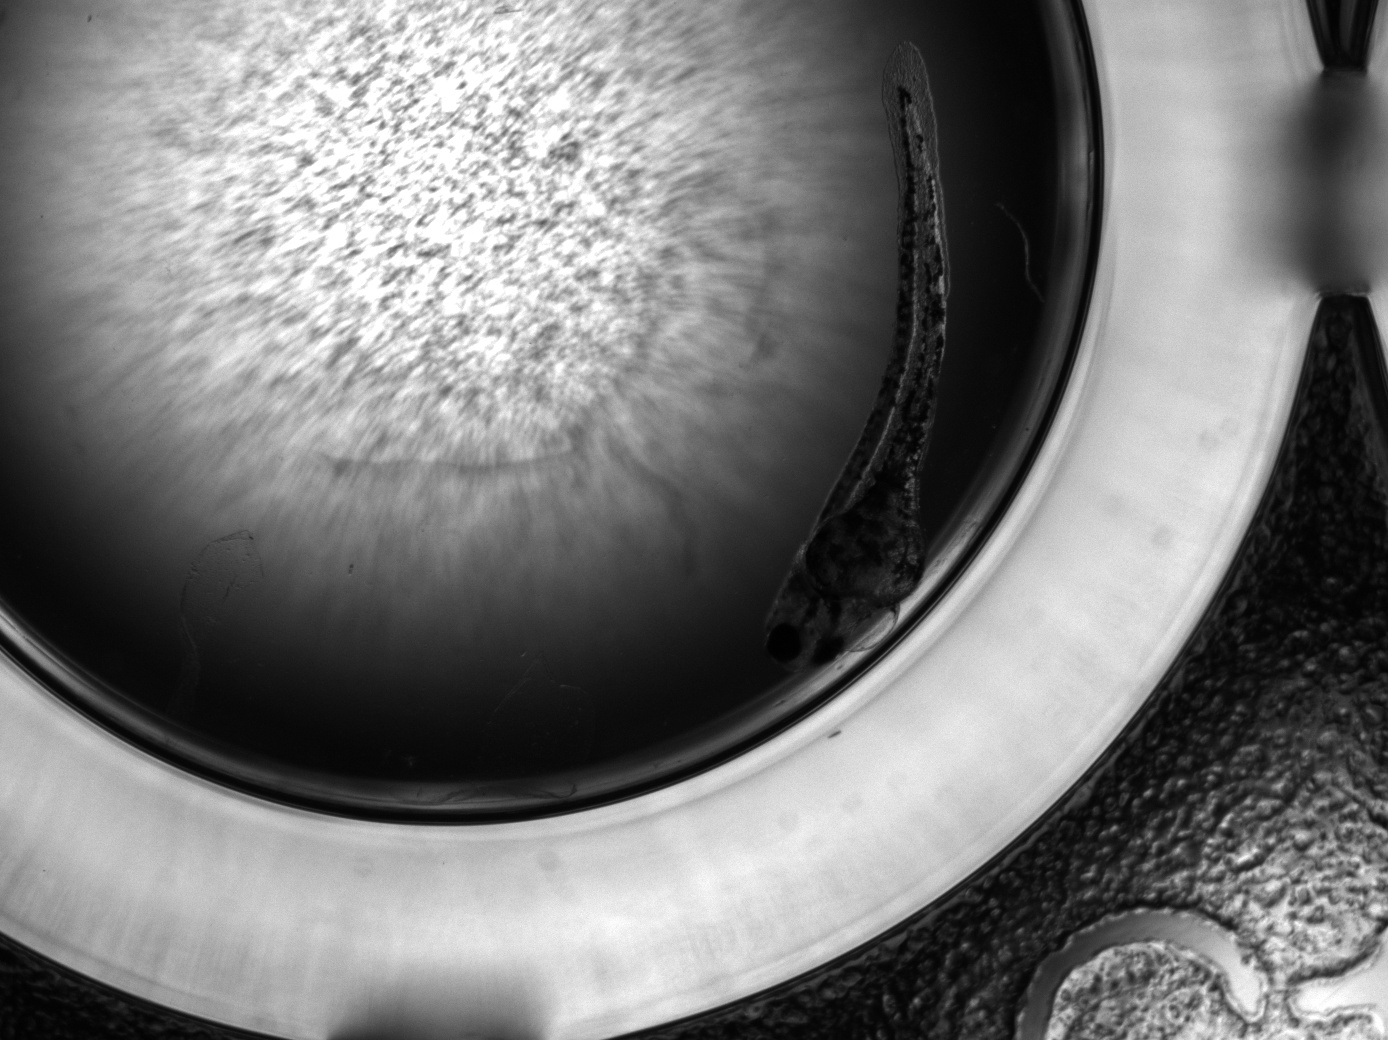embryo: (763, 85, 947, 670)
eye: (767, 622, 804, 665), (812, 636, 844, 669)
yolksac: (804, 465, 921, 649)
